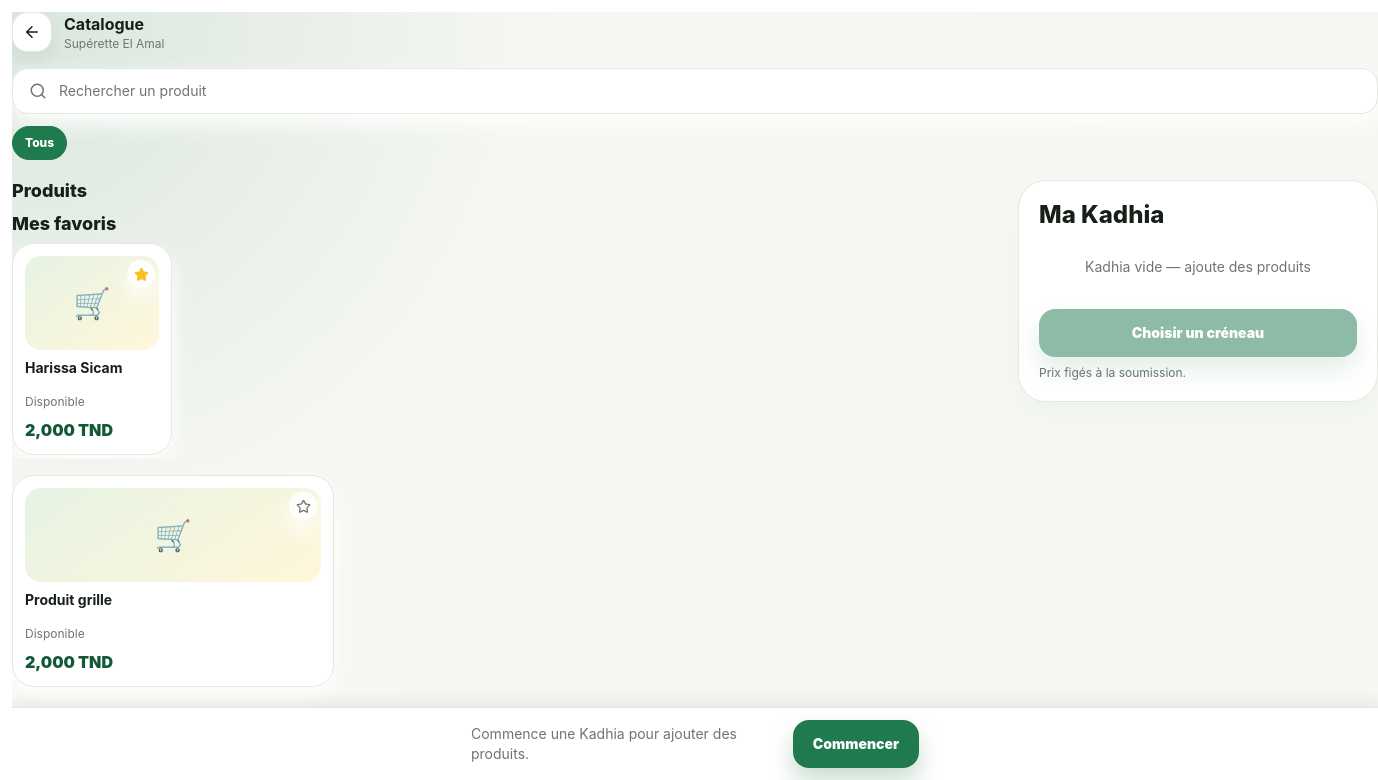
Test case: CatalogPage — suggestions et favoris › annule la mise à jour optimiste si le toggle échoue
The width and height of the screenshot is (1378, 780).
Click the button named "Retirer des favoris Harissa Sicam" at coordinates (141, 274), box [127,260,155,288]
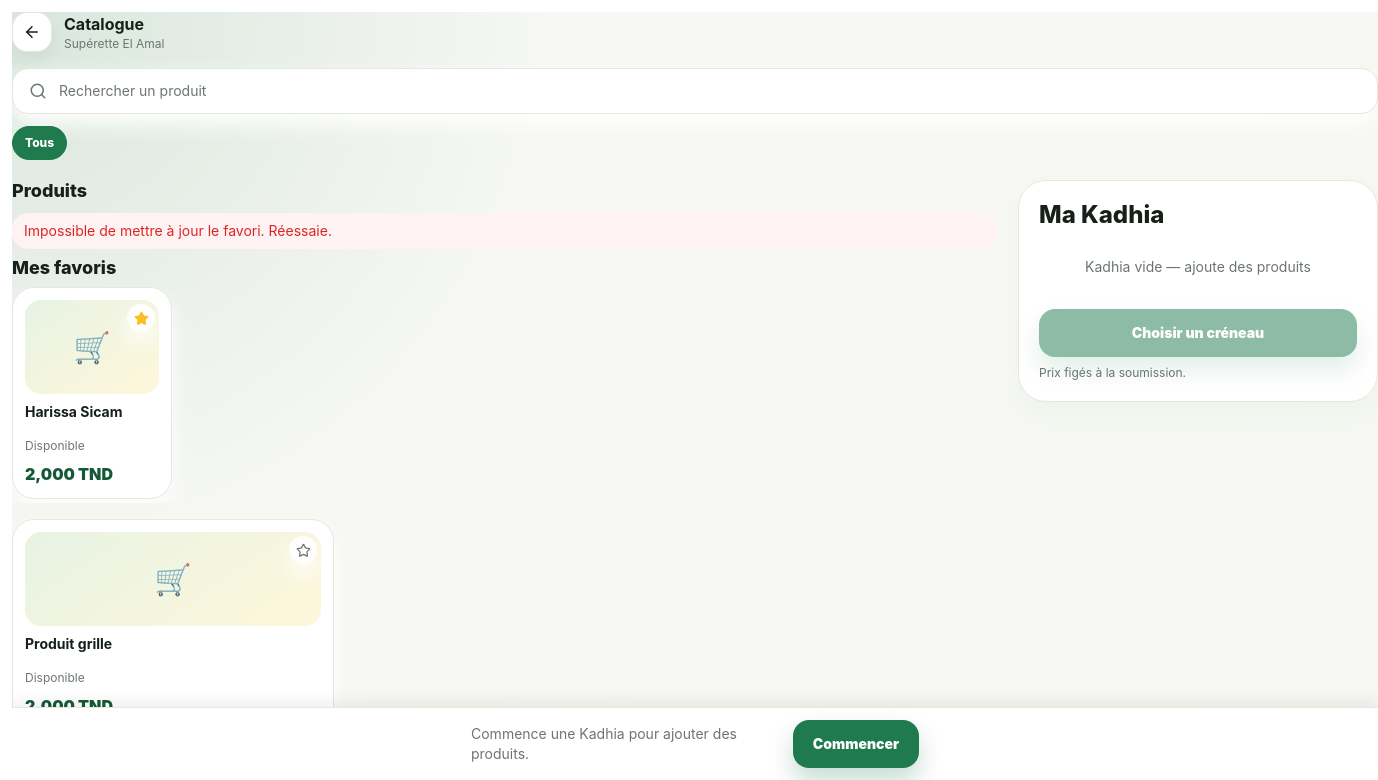
Expected: the heading "Mes favoris" is shown, [12,256,116,278]
Result: the text "Impossible de mettre à jour le favori. Réessaie." is shown at [12,212,998,248]
